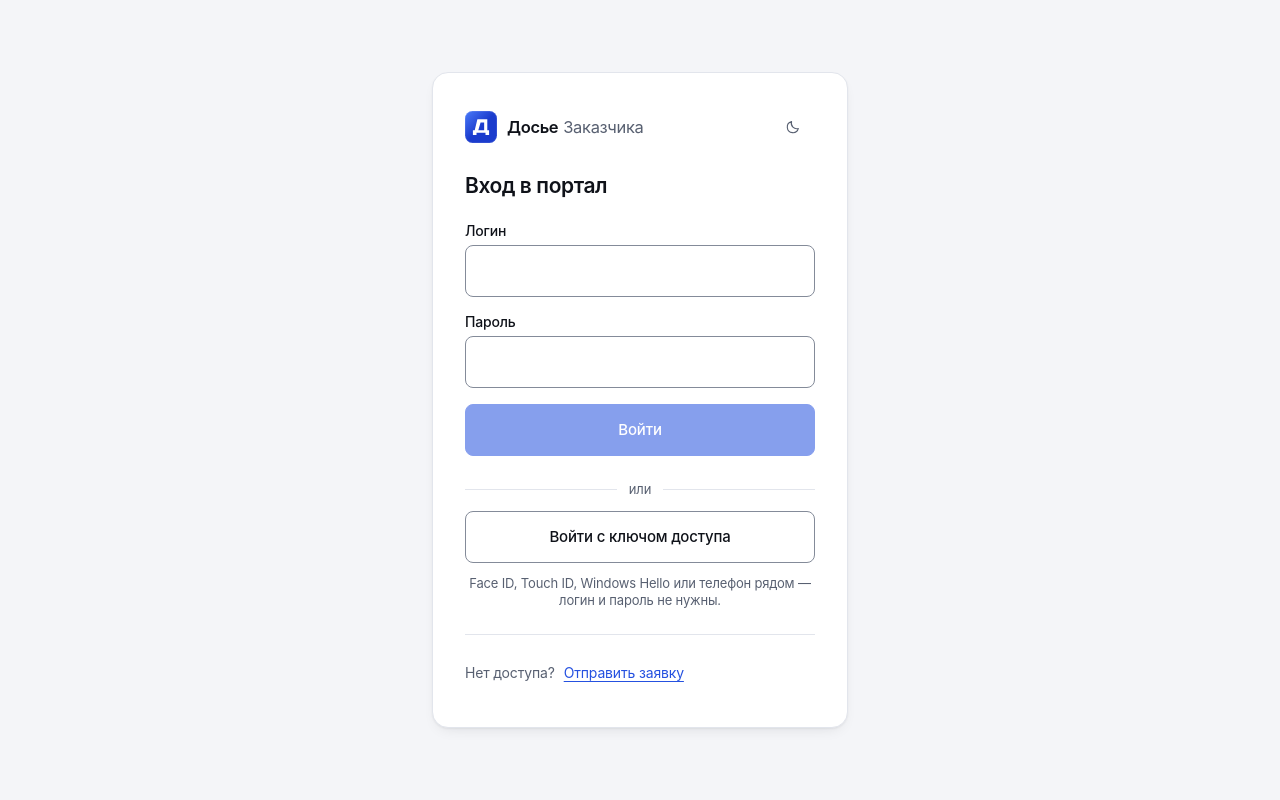
Test: вход по ключу доступа › после входа паролем и выхода кнопка ключа на экране входа остаётся
Type "ivanov" into the field labelled "Логин".
click(640, 271); type("ivanov")  # box 465,245 -> 815,297
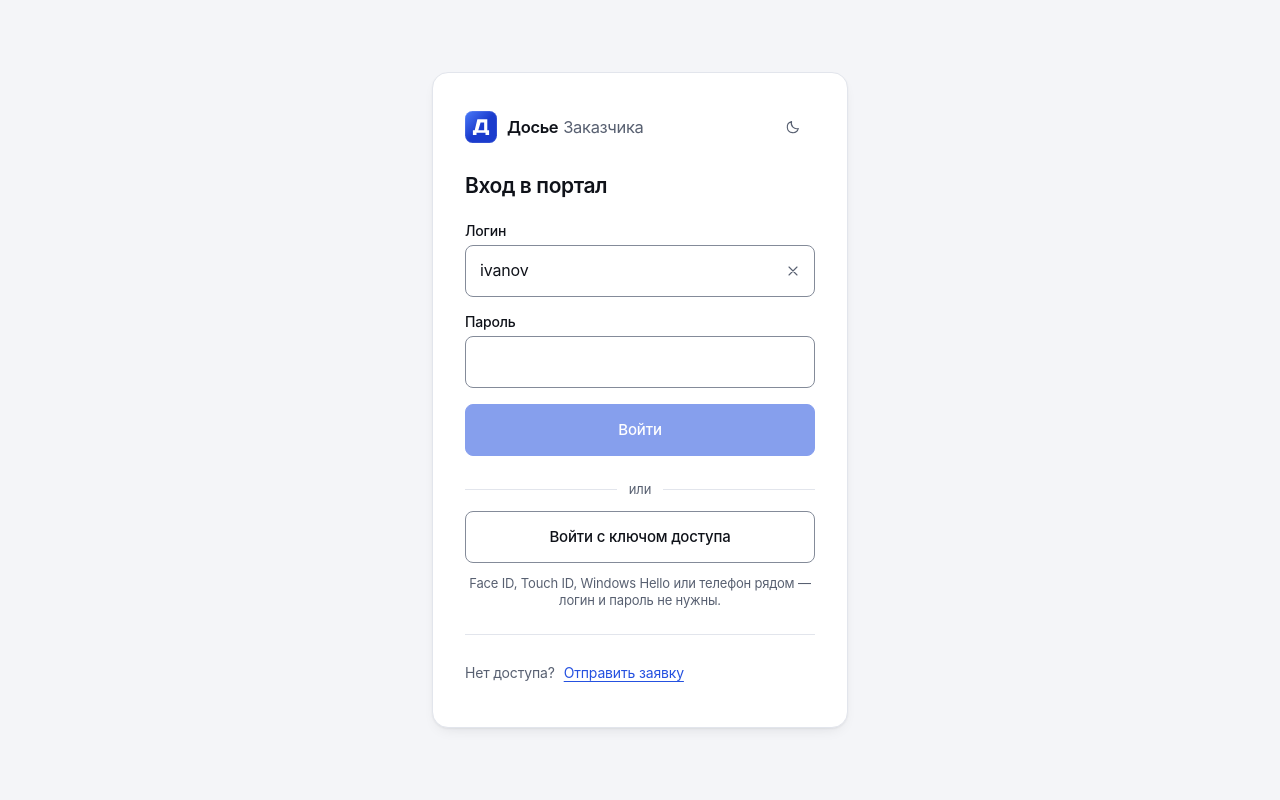
Type "Correct-Horse-7731" into the password field labelled "Пароль".
click(640, 362); type("Correct-Horse-7731")  # box 465,336 -> 815,388
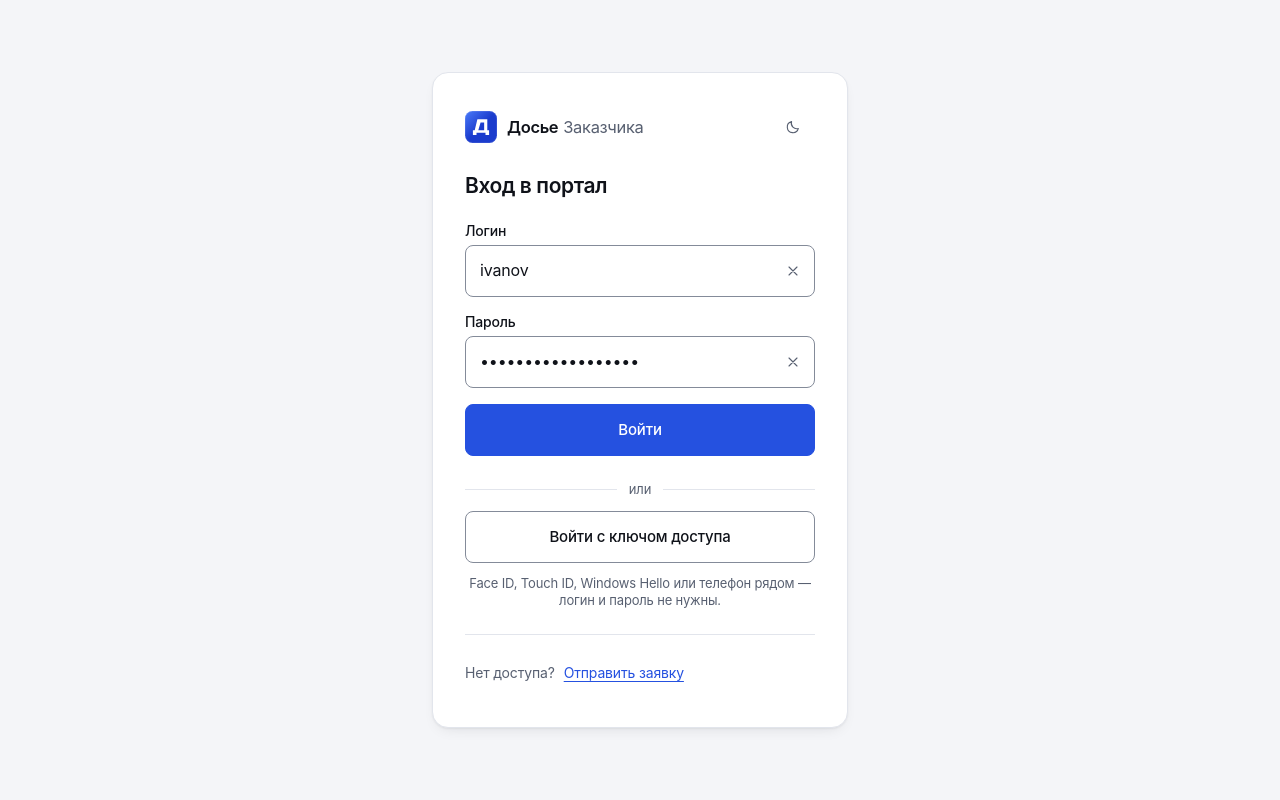
Click the button "Войти".
click(640, 430)  # box 465,404 -> 815,456
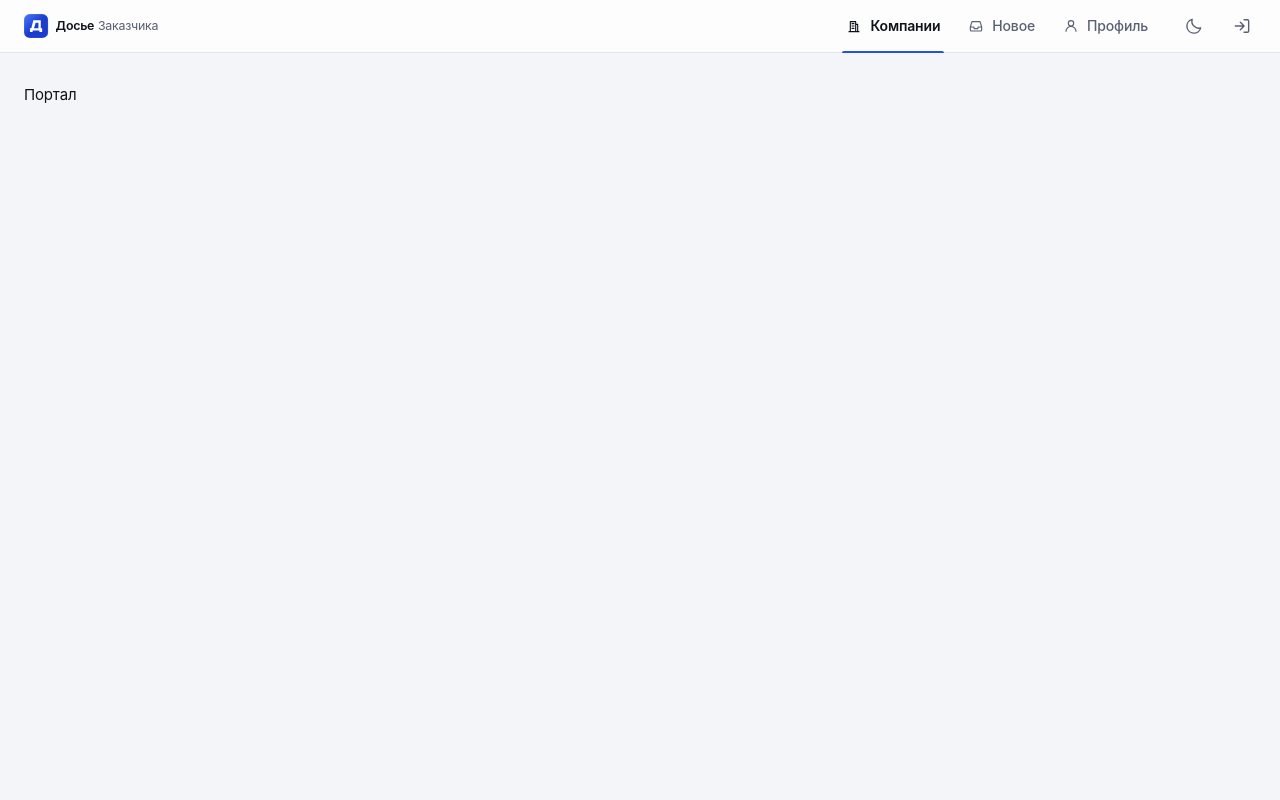
Click the button named "Выйти (Иван Иванов)".
click(1242, 26)  # box 1220,4 -> 1264,48
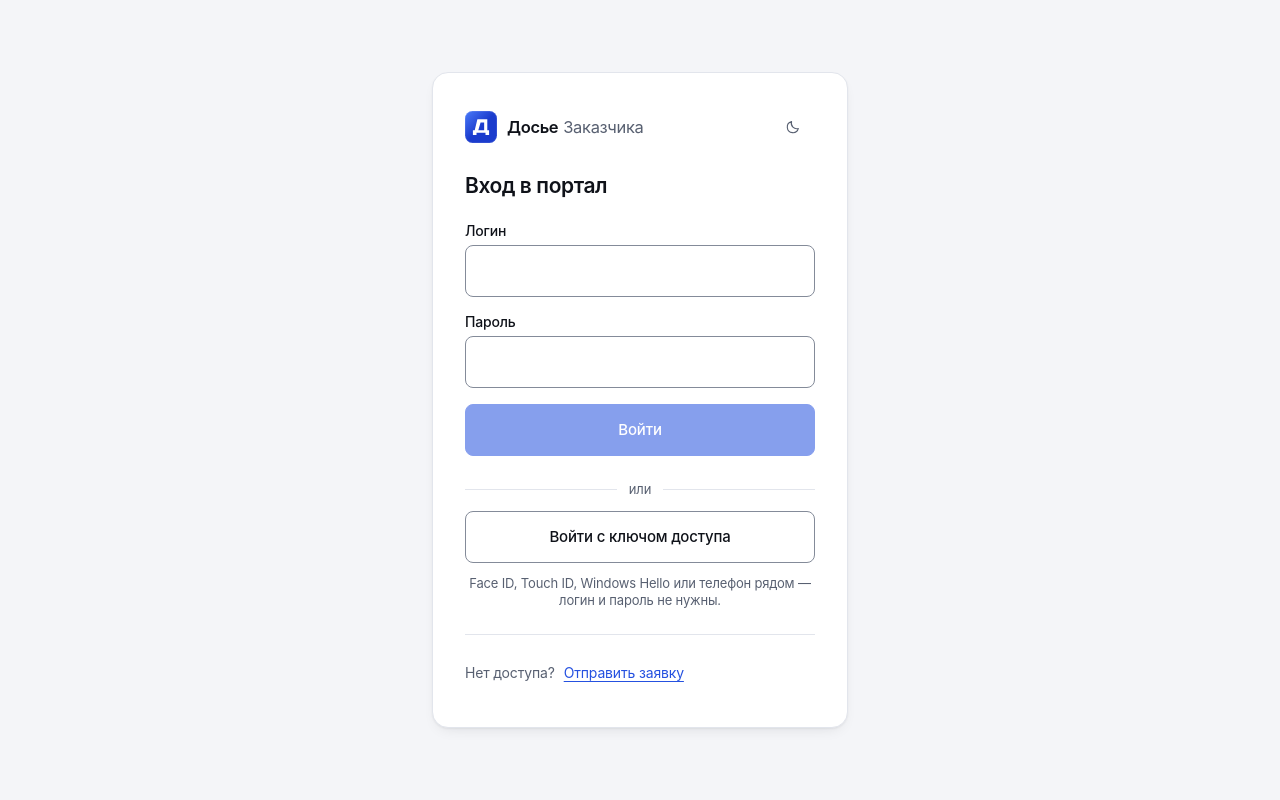
Result: the button "Войти с ключом доступа" is shown at 465,511 -> 815,563
